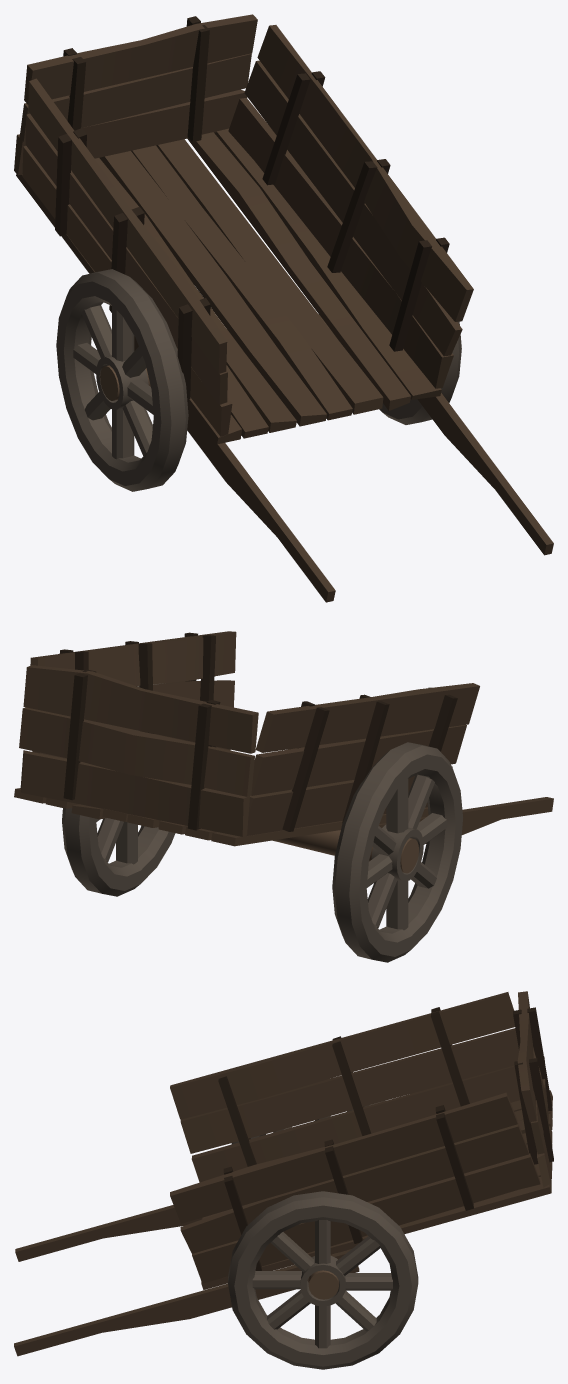
The model's file is Carreta.fbx.
3 renders of one model, top to bottom at view 1: azimuth 30°, elevation 25°; view 2: azimuth 150°, elevation 25°; view 3: azimuth 270°, elevation 25°, orthographic. The views are drawn at different scales.
Visible parts, largest first — view 1: polySurface20, polySurface4, Tablon3, Tablon5, polySurface5, Tablon6, polySurface6, Tablon4, polySurface1, polySurface9, Tablon7, polySurface8 (+17 smaller); view 2: polySurface20, polySurface9, polySurface8, polySurface7, polySurface1, polySurface11, polySurface4, polySurface3, polySurface2, Tablon_Agarre2, pCube8, pCube11 (+8 smaller); view 3: polySurface11, polySurface1, polySurface3, polySurface4, polySurface2, polySurface6, polySurface5, Tablon_Agarre, Tablon_Agarre2, Tablon7, polySurface9, pCube5 (+11 smaller).
Part boxes in pixels (x1,y1,x2,y2): polySurface20: [56, 269, 188, 491]; polySurface4: [257, 25, 473, 321]; Tablon3: [99, 151, 326, 426]; Tablon5: [156, 139, 383, 414]; polySurface5: [228, 98, 453, 388]; Tablon6: [187, 132, 410, 410]; polySurface6: [244, 60, 462, 356]; Tablon4: [131, 145, 352, 420]; polySurface1: [28, 78, 227, 373]; polySurface9: [24, 14, 257, 104]; Tablon7: [214, 128, 441, 399]; polySurface8: [19, 53, 251, 141]; polySurface20: [332, 742, 462, 962]; polySurface9: [23, 665, 258, 753]; polySurface8: [19, 707, 254, 796]; polySurface7: [20, 750, 249, 836]; polySurface1: [255, 683, 479, 752]; polySurface11: [62, 683, 175, 896]; polySurface4: [30, 631, 236, 685]; polySurface3: [251, 725, 466, 795]; polySurface2: [245, 766, 452, 836]; Tablon_Agarre2: [379, 797, 553, 843]; pCube8: [282, 707, 329, 831]; pCube11: [63, 673, 87, 800]; polySurface11: [228, 1191, 418, 1369]; polySurface1: [170, 992, 514, 1119]; polySurface3: [180, 1028, 518, 1153]; polySurface4: [170, 1092, 517, 1223]; polySurface2: [191, 1065, 520, 1182]; polySurface6: [180, 1123, 528, 1253]; polySurface5: [192, 1153, 540, 1283]; Tablon_Agarre: [14, 1249, 359, 1356]; Tablon_Agarre2: [15, 1205, 202, 1261]; Tablon7: [201, 1177, 551, 1289]; polySurface9: [517, 991, 536, 1121]; pCube5: [436, 1113, 473, 1210].
Bounding box in the file's own units: 8.34 × 8.62 × 15.33.
